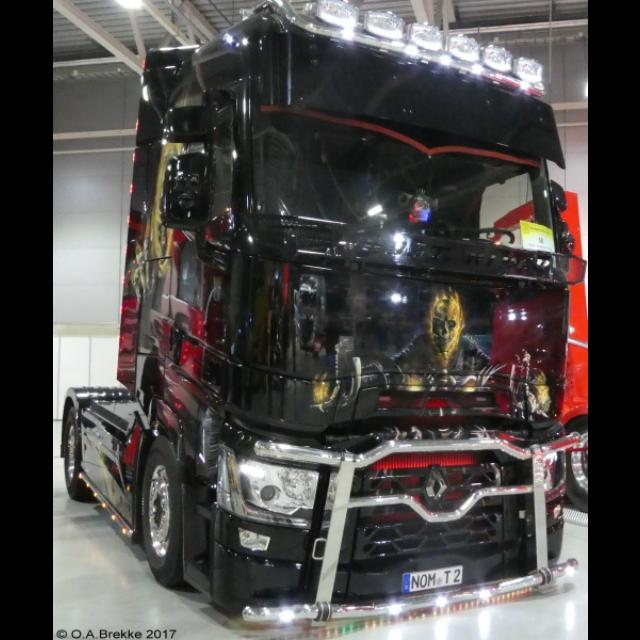d_license_plate: (401, 564, 461, 592)
